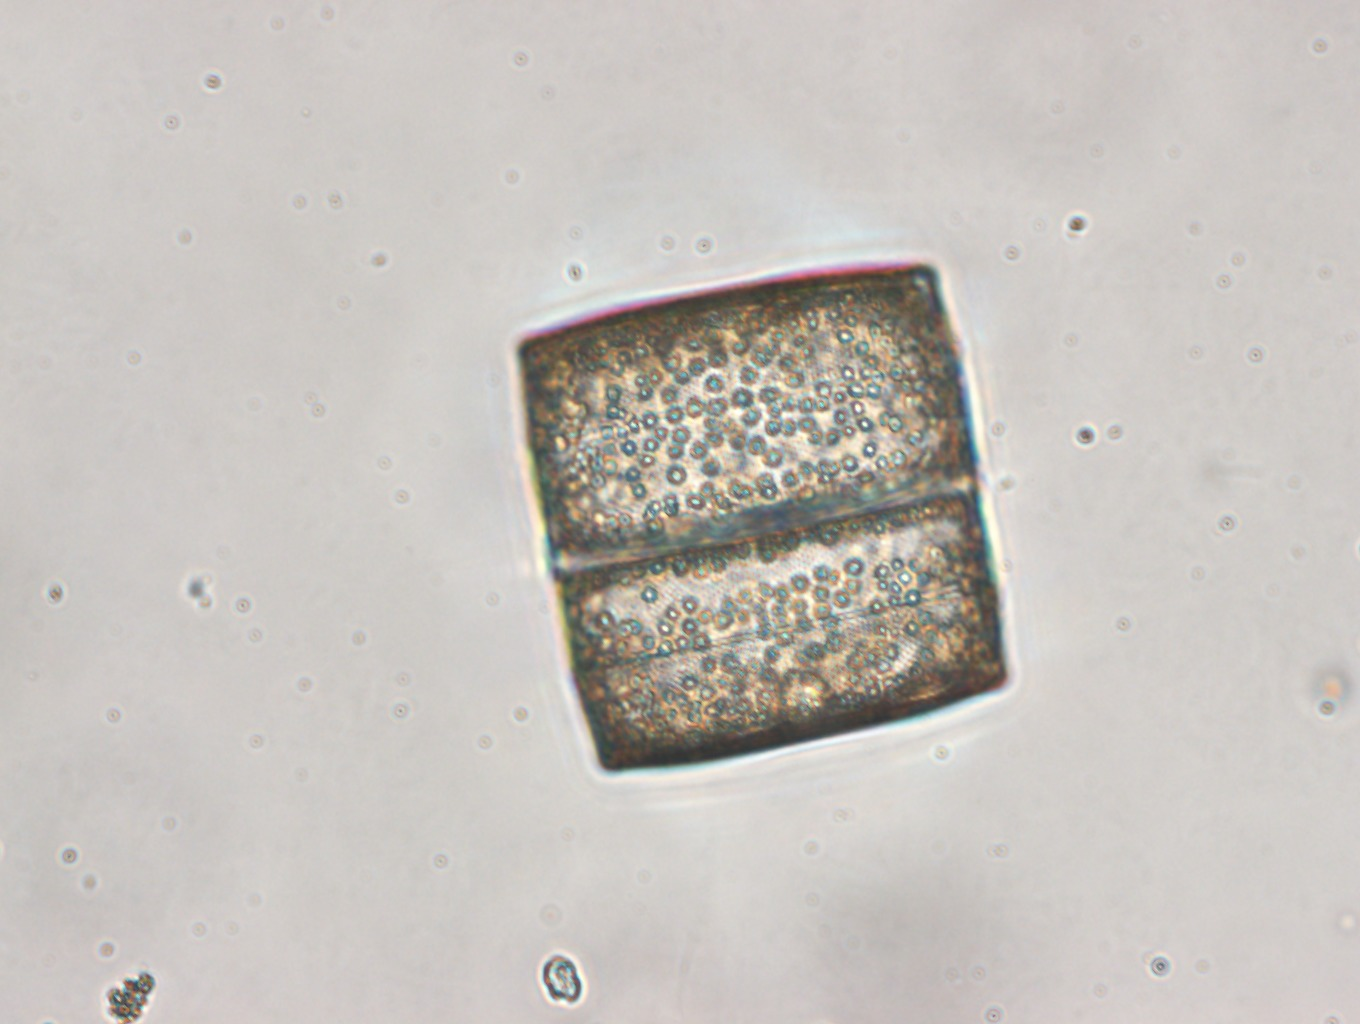coscinodiscus flank: (513, 262, 1011, 774)
